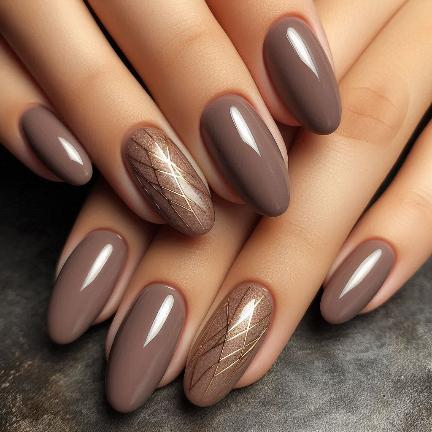Nail: (184, 282, 274, 407), (200, 95, 291, 217), (105, 284, 187, 413), (122, 125, 215, 236), (263, 16, 342, 135), (47, 230, 128, 344), (320, 240, 395, 324), (20, 103, 93, 186)
